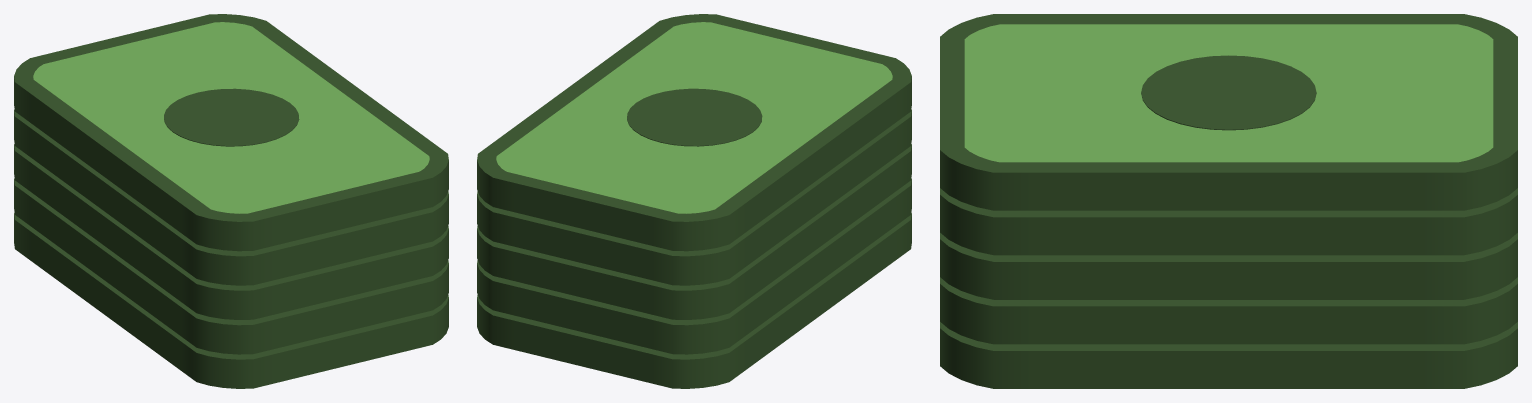
Rendered from para.fbx.
3 renders of one model, left to right at view 1: azimuth 30°, elevation 25°; view 2: azimuth 150°, elevation 25°; view 3: azimuth 270°, elevation 25°, orthographic. The views are drawn at different scales.
Parts seen in each view (by area): view 1: Cube; view 2: Cube; view 3: Cube.
Part boxes in pixels (box(x1,y1,x2,y2)): Cube: box(14, 14, 448, 388); Cube: box(477, 14, 911, 388); Cube: box(940, 14, 1517, 388).
Size of the model in its own units: 13.74 by 8.75 by 21.12.
